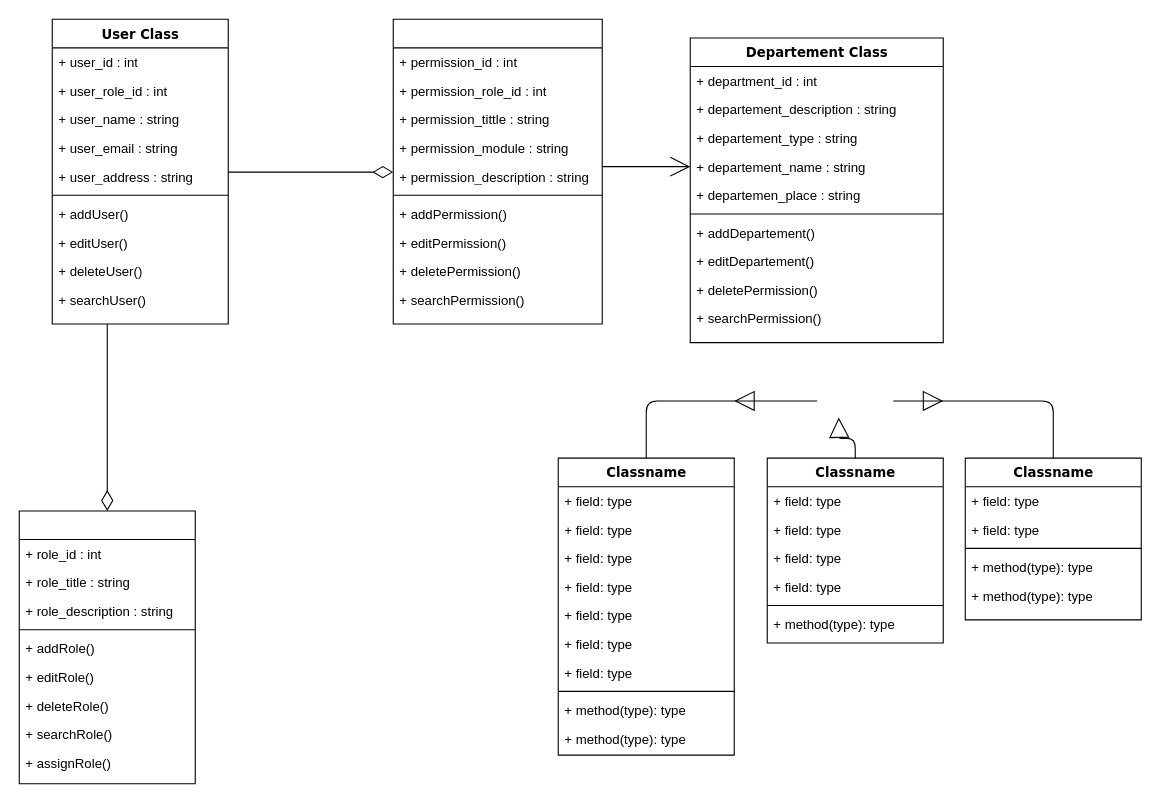
Image size: 1161x803. Some labels were removed from this diagram. Each missing label, with the box of its shape:
Permission Class: (392, 18, 602, 324)
Role Class: (18, 510, 195, 784)
